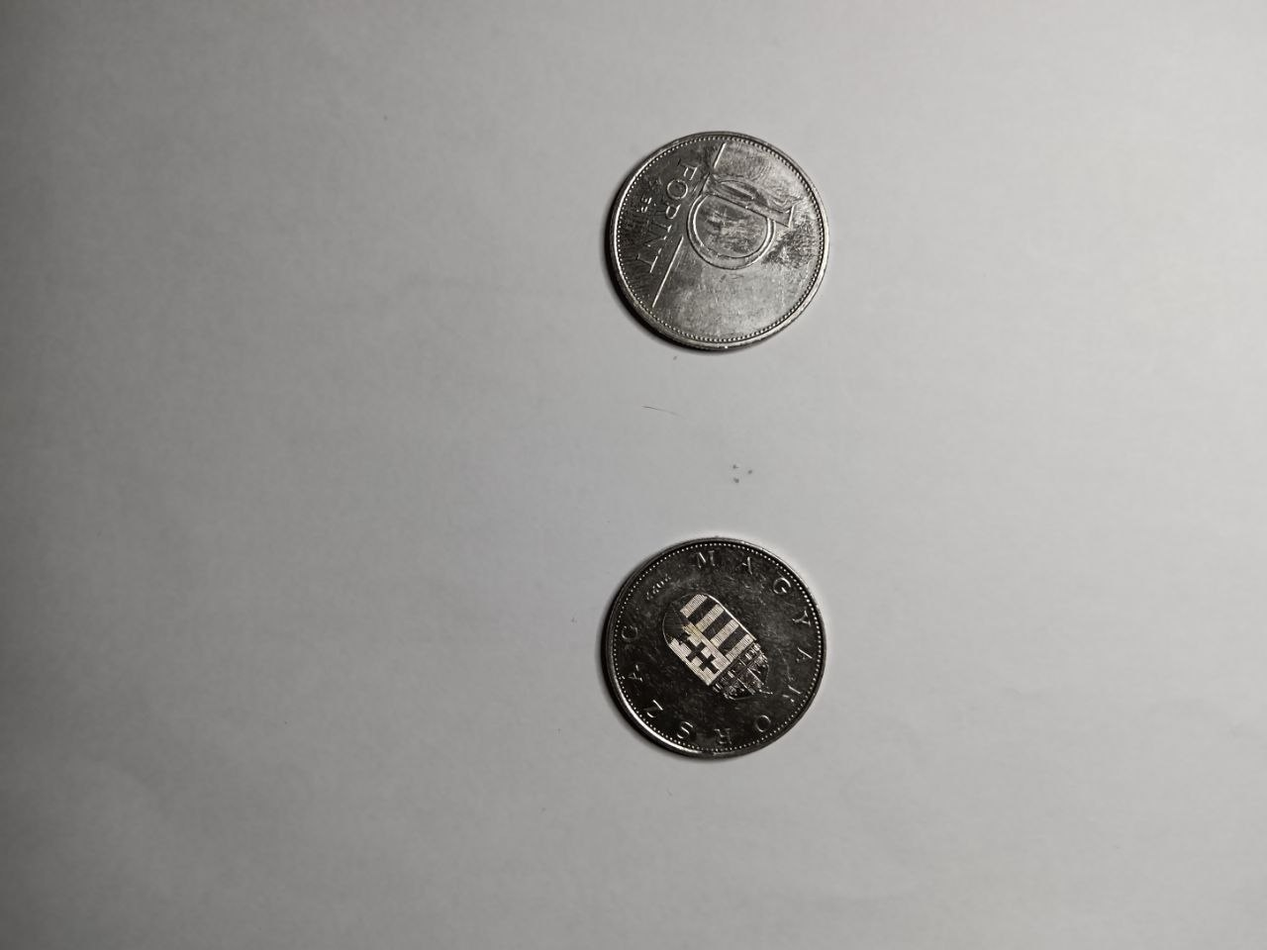10ft: (601, 130, 826, 350), (606, 538, 824, 764)
